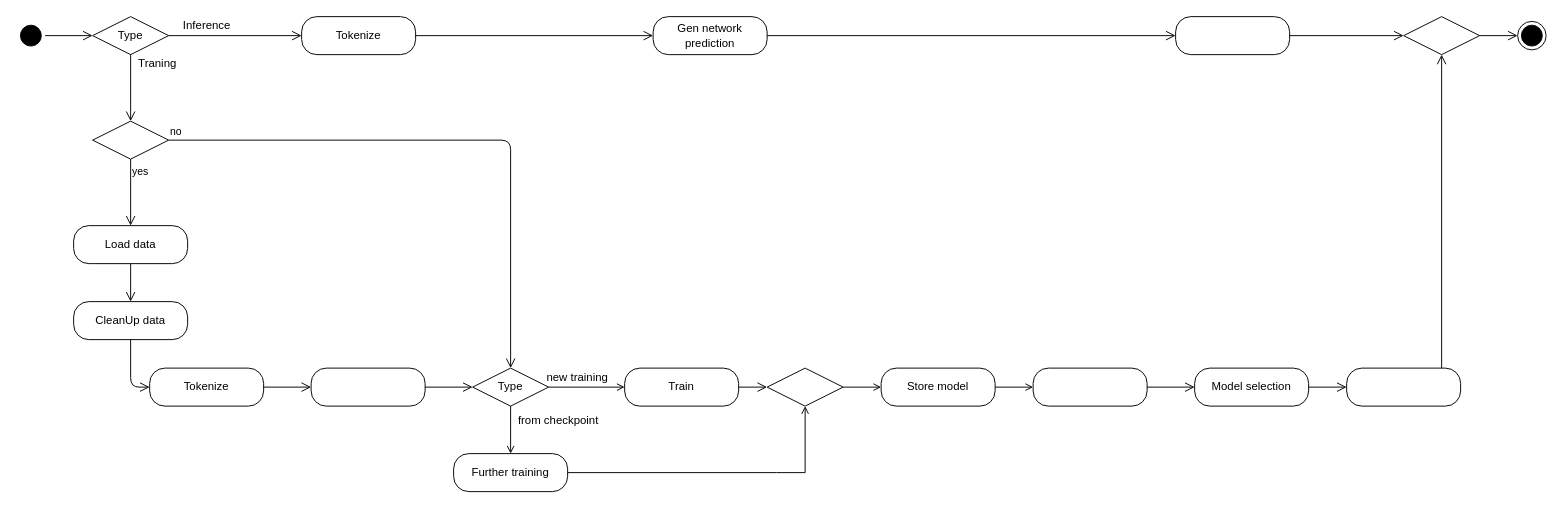
Image size: 1563x508. Some labels were removed from this diagram. Here are the shapes that lost their labels. From the top down, the box of each, then its label:
(1175, 16, 1290, 55): Send to view
(92, 120, 169, 159): Data changed
(310, 367, 425, 406): Write database
(1032, 367, 1147, 406): Metric
(1346, 367, 1461, 406): Deployment
